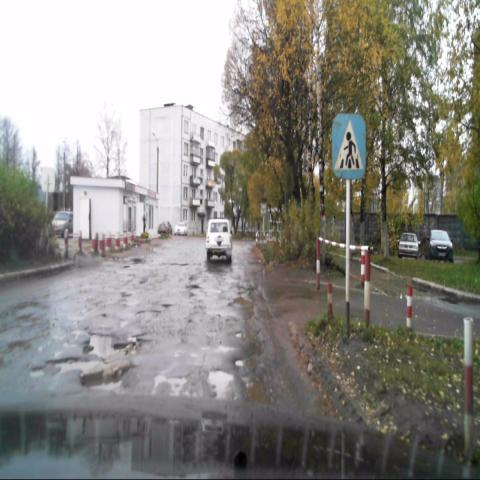5_19_1: (332, 114, 366, 177)
